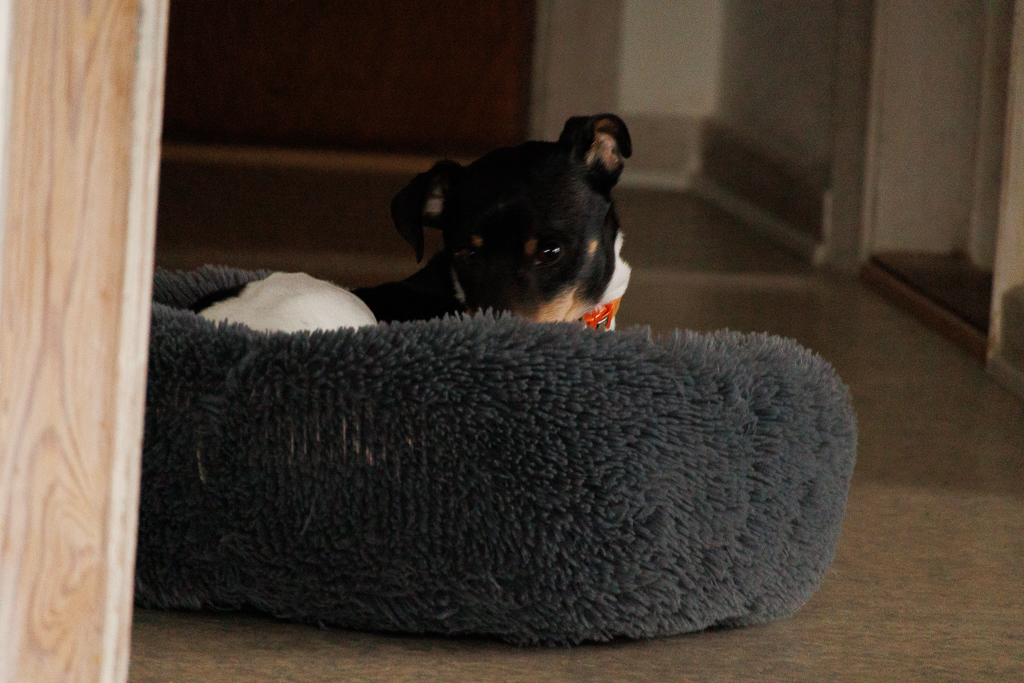Dog: (166, 105, 646, 339)
